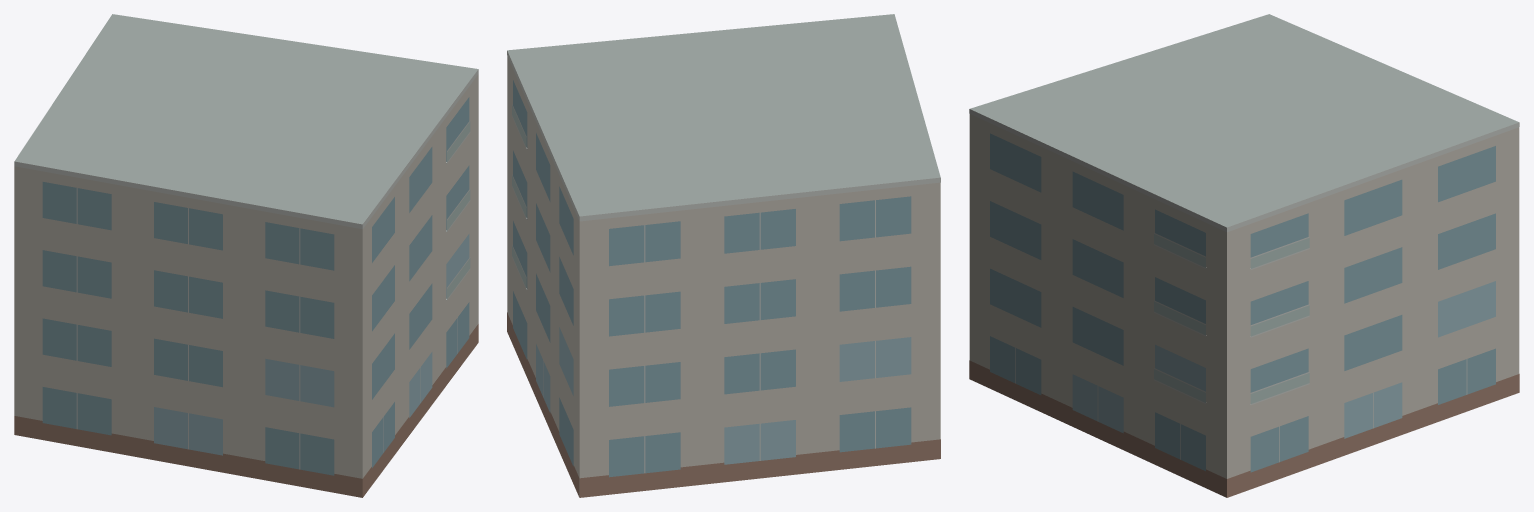
File: survey-upis-32827336.glb
3 renders of one model, left to right at view 1: azimuth 30°, elevation 25°; view 2: azimuth 150°, elevation 25°; view 3: azimuth 270°, elevation 25°, orthographic. The views are drawn at different scales.
Visible parts, largest first — view 1: survey-upis-32827336.tmp; view 2: survey-upis-32827336.tmp; view 3: survey-upis-32827336.tmp.
Part boxes in pixels (box(x1,y1,x2,y2)): survey-upis-32827336.tmp: box(14, 14, 478, 497); survey-upis-32827336.tmp: box(507, 14, 940, 497); survey-upis-32827336.tmp: box(969, 14, 1519, 497).
Size of the model in its own units: 23.39 by 13.8 by 25.45.
